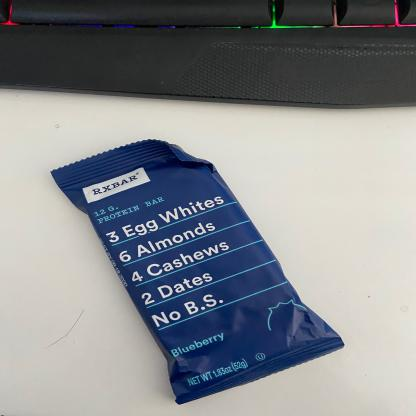ProteinBars: (51, 165, 344, 389)
